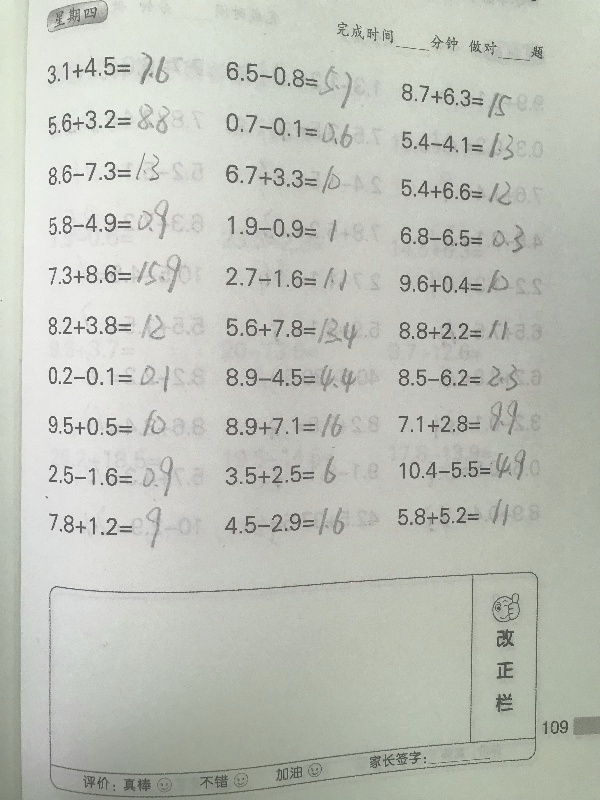equation: (44, 453, 185, 499), (45, 505, 174, 554), (46, 257, 186, 301), (46, 198, 178, 244), (224, 52, 355, 98), (221, 114, 360, 154), (222, 311, 370, 347), (394, 497, 544, 532), (44, 49, 173, 89), (399, 398, 529, 437), (399, 447, 529, 486), (222, 360, 366, 394), (218, 408, 362, 442), (218, 453, 362, 487), (396, 222, 539, 256), (395, 265, 532, 300), (44, 101, 171, 137), (398, 124, 526, 159), (44, 311, 175, 345), (221, 505, 348, 540), (45, 362, 173, 396), (44, 150, 164, 186), (392, 313, 527, 345), (394, 359, 529, 391), (221, 161, 344, 196), (397, 176, 530, 208), (44, 408, 169, 441), (222, 261, 350, 292), (397, 84, 514, 117), (223, 214, 339, 243)
